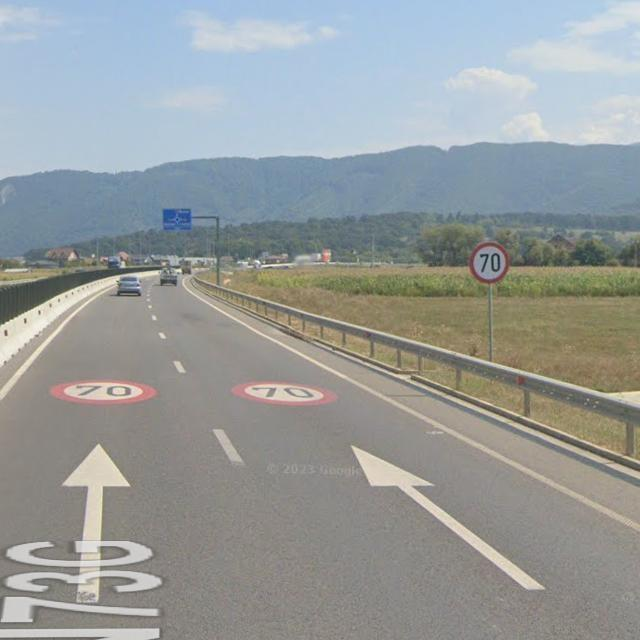forb_speed_over_70: (230, 377, 342, 408), (52, 378, 158, 407), (469, 240, 511, 285)
